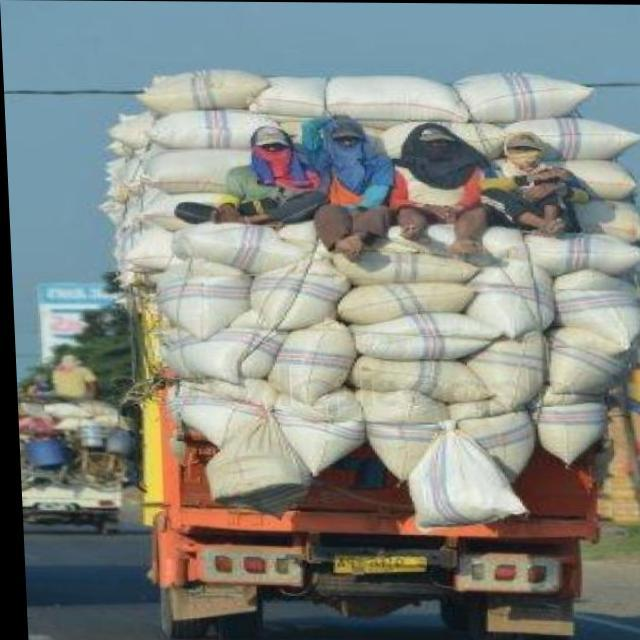covered: (68, 47, 640, 560)
